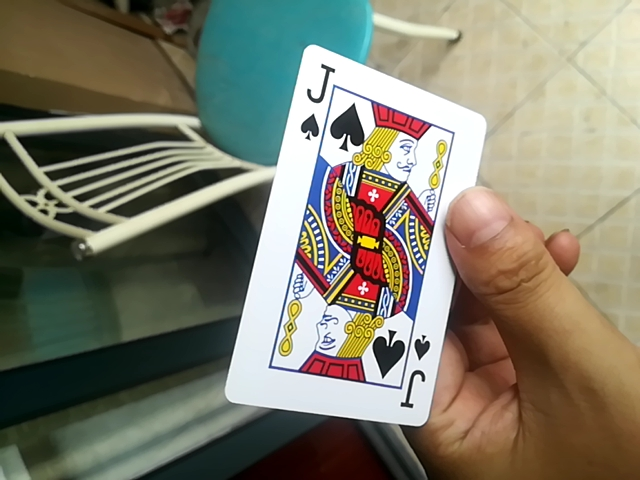ht j: (226, 46, 486, 434)
